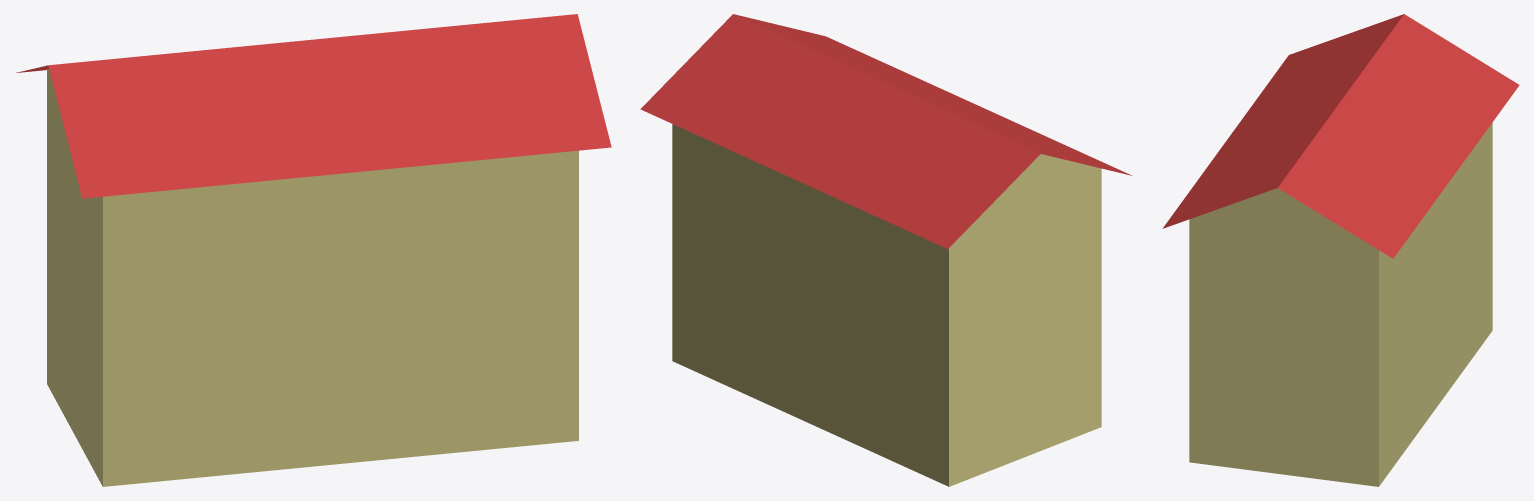
3 views of the same model, side by side, from view 1: azimuth 30°, elevation 25°; view 2: azimuth 150°, elevation 25°; view 3: azimuth 270°, elevation 25° (orthographic). The views are drawn at different scales.
Visible parts, largest first — view 1: group_5, group_3, group_4; view 2: group_5, group_3, group_4; view 3: group_5, group_3, group_4.
Boxes of the visible parts, <box> form: group_5: <box>47,69,578,486</box>; group_3: <box>16,15,611,197</box>; group_4: <box>48,14,607,198</box>; group_5: <box>672,124,1101,486</box>; group_3: <box>663,14,1100,248</box>; group_4: <box>640,14,1132,248</box>; group_5: <box>1189,122,1492,486</box>; group_3: <box>1162,14,1500,258</box>; group_4: <box>1163,14,1519,258</box>.
Bounding box in the file's own units: 16.74 × 12.4 × 11.31.
